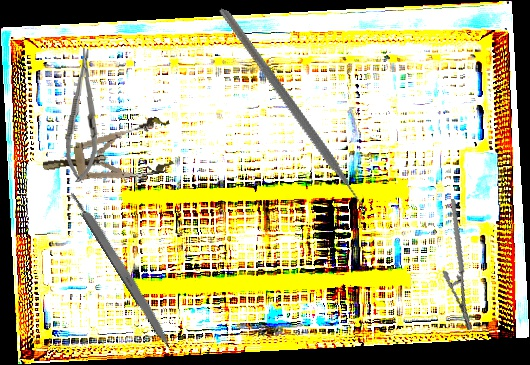Chopper: (162, 7, 419, 229)
Needle Holder: (425, 198, 498, 331), (63, 47, 103, 184)
Scalpel Handle: (67, 186, 177, 352)
Speculum: (38, 114, 178, 194)
